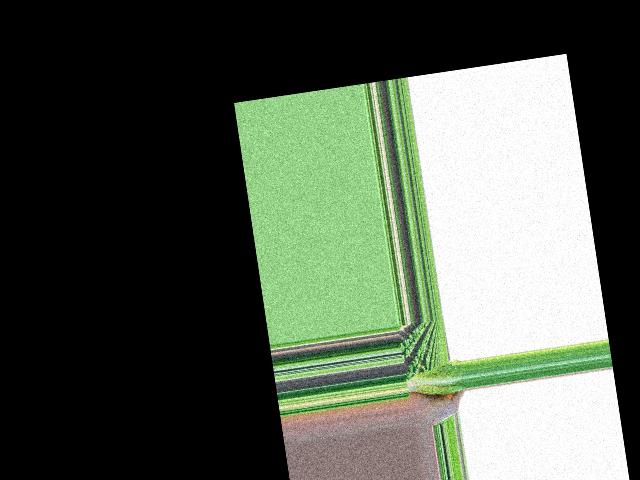lettuce: (403, 360, 464, 399)
